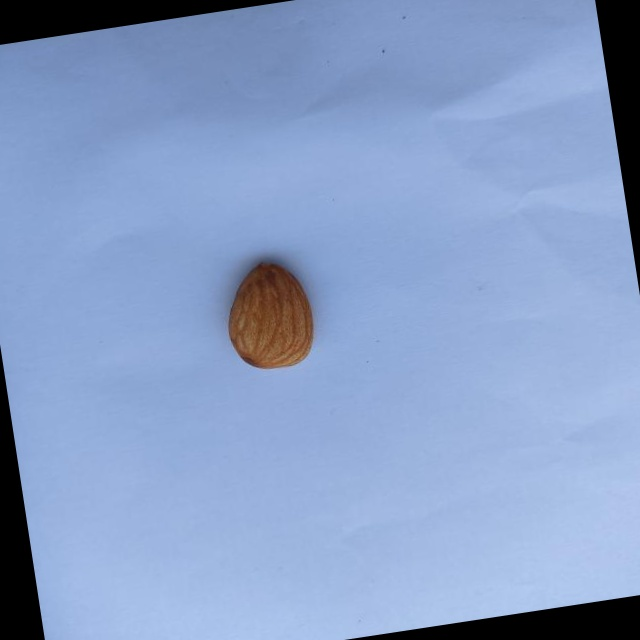grade1: (212, 247, 330, 382)
